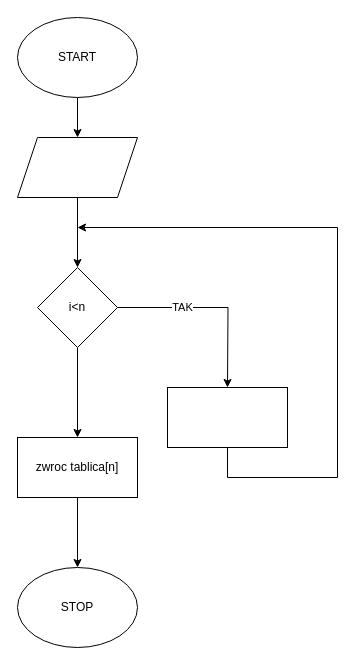
Image size: 363x665. Some labels were removed from this diagram. Here are the shapes that lost their labels. From the top down, the centre of each, then its label:
point 77,167: i=0
point 227,417: tablica[i]=rand()%100 plik<<tablica<<[i]
